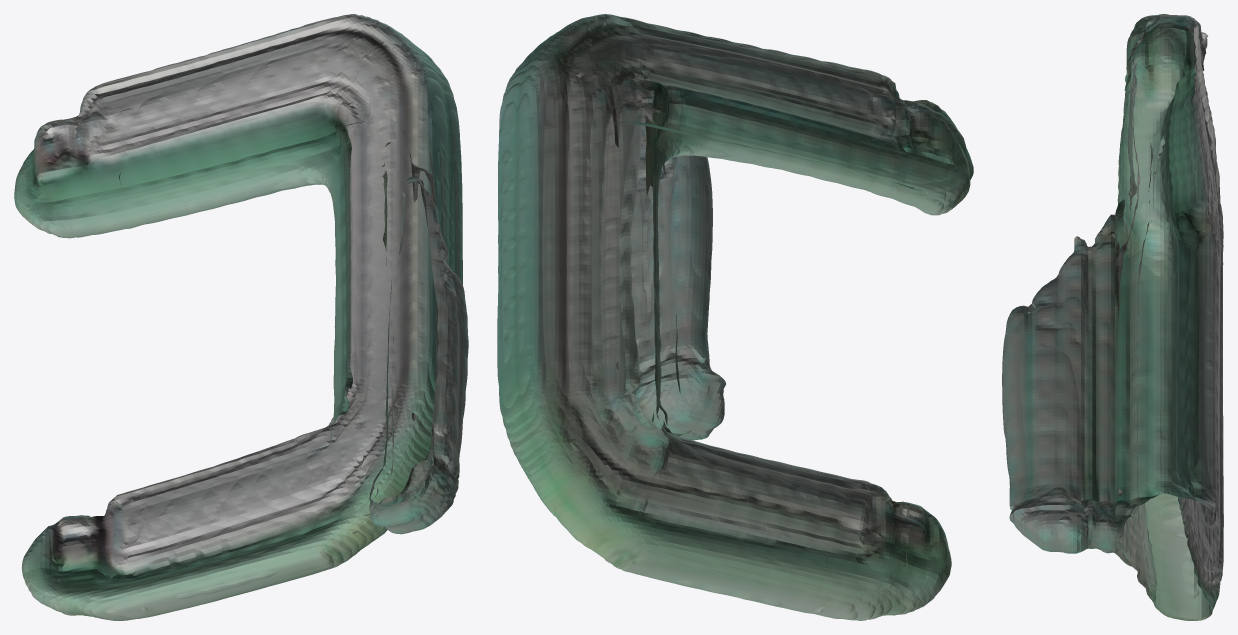
3 renders of one model, left to right at view 1: azimuth 30°, elevation 25°; view 2: azimuth 150°, elevation 25°; view 3: azimuth 270°, elevation 25°, orthographic. The views are drawn at different scales.
Visible parts, largest first — view 1: geometry_0; view 2: geometry_0; view 3: geometry_0.
Boxes of the visible parts, x1,y1,x2,y2 form: geometry_0: [14, 14, 468, 620]; geometry_0: [497, 14, 973, 620]; geometry_0: [1002, 14, 1223, 620].
Size of the model in its own units: 1.38 by 1.6 by 0.6381.
